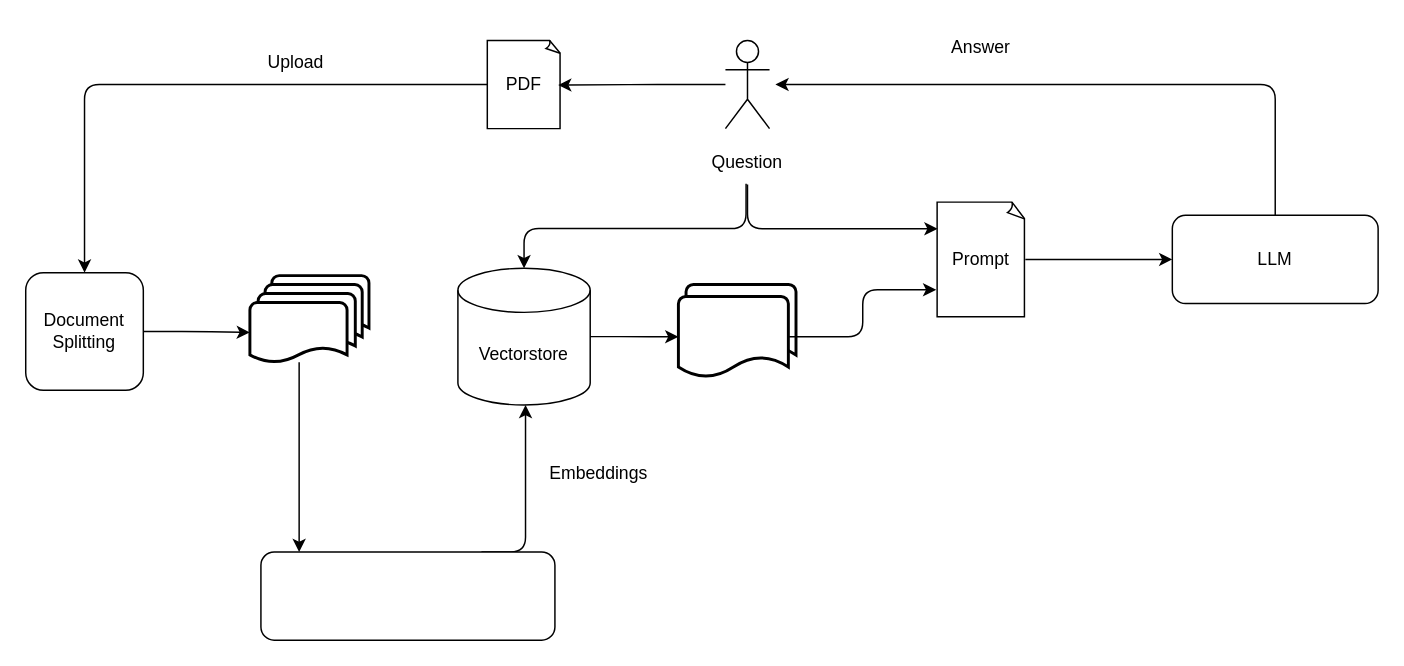
Image size: 1404x666. Some labels were removed from this diagram. Each missing label, with the centre of its shape:
Chunks: point (298, 331)
Embedding API: point (407, 595)
Retrieved Chunks: point (732, 336)
